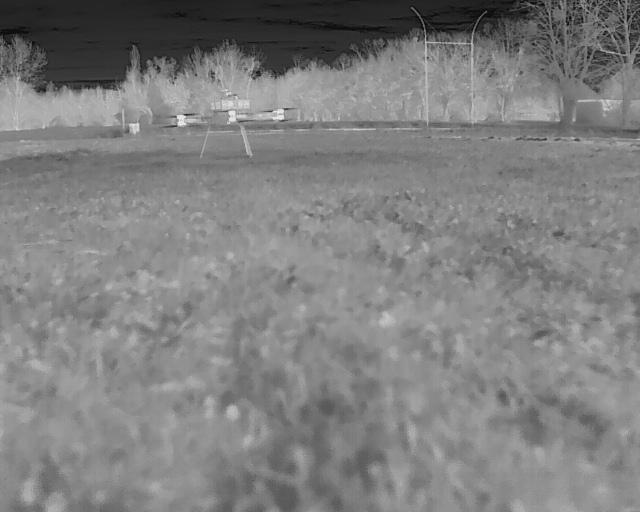drone: (157, 90, 292, 165)
